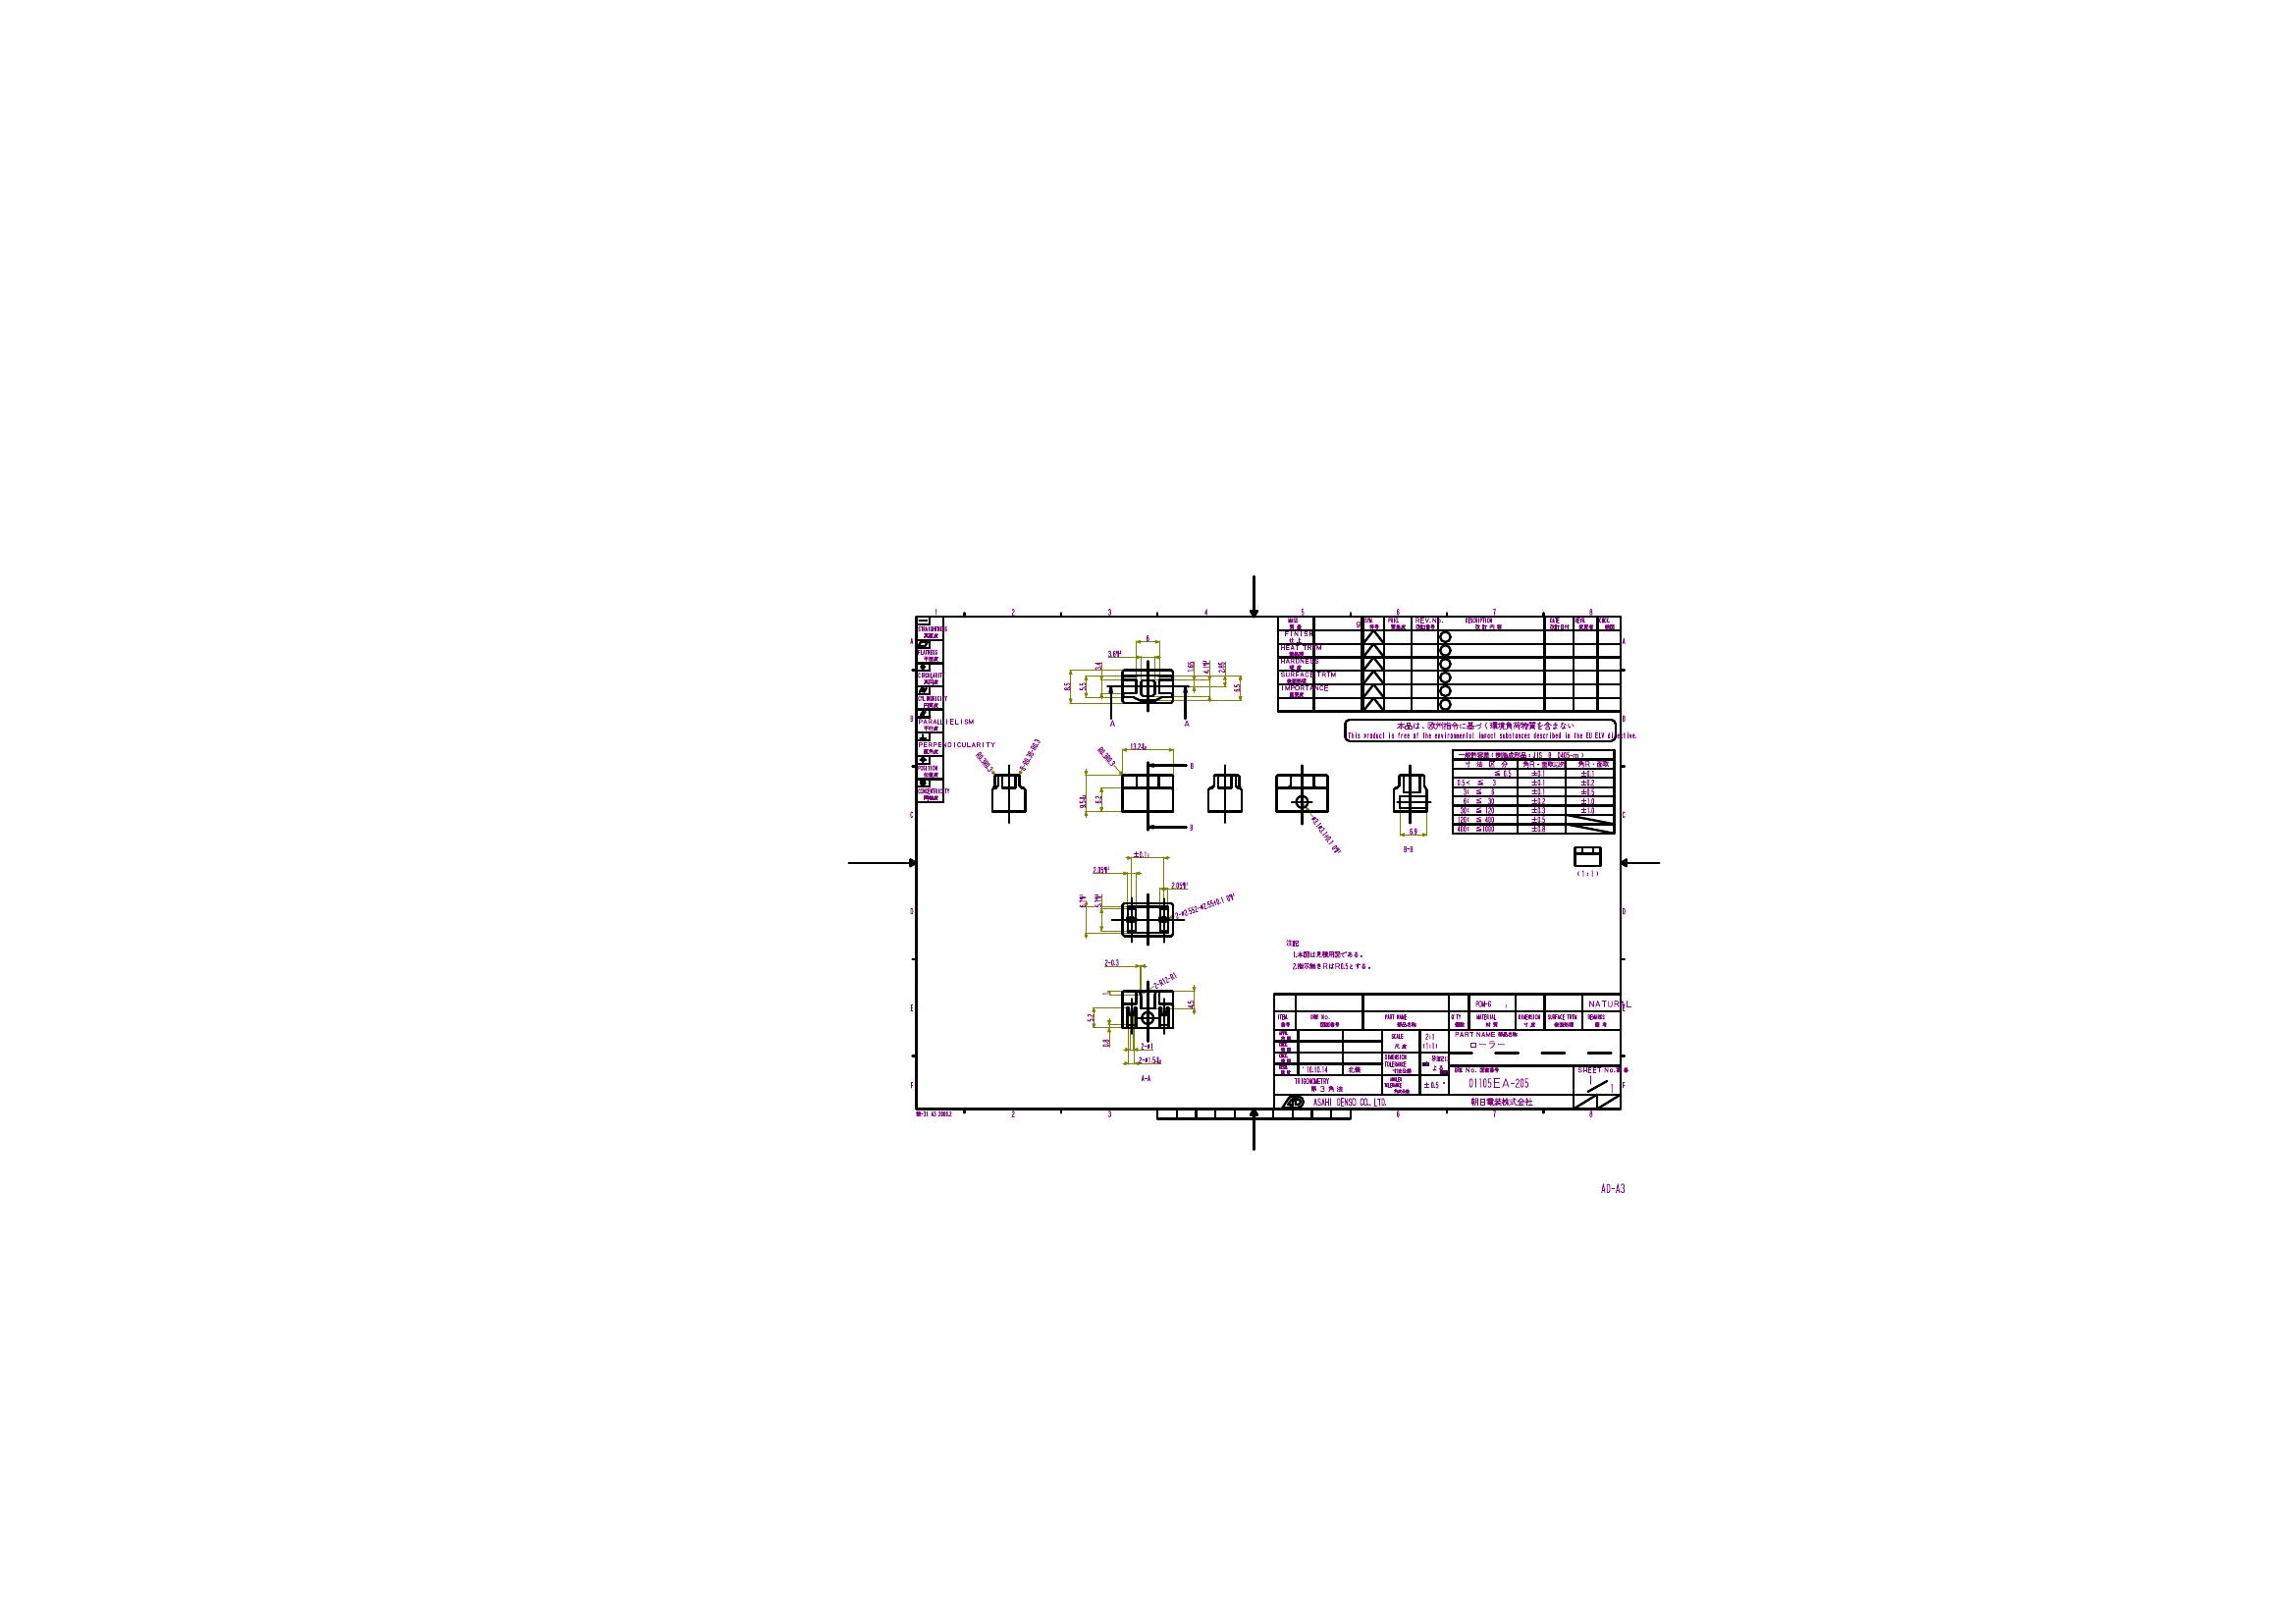anntotation_text: (1342, 717, 1616, 742), (1284, 935, 1372, 972), (1574, 866, 1600, 881), (913, 1109, 954, 1118), (1599, 1183, 1625, 1193), (1138, 1072, 1154, 1083), (1400, 844, 1416, 851), (1182, 719, 1191, 729), (1107, 719, 1116, 728), (1189, 823, 1195, 831), (1189, 761, 1193, 768)
dimension_text: (1173, 902, 1237, 909), (1321, 814, 1330, 858), (1026, 738, 1033, 772), (1151, 977, 1180, 984), (1170, 879, 1189, 889), (1130, 740, 1147, 750), (1133, 849, 1154, 858), (1091, 865, 1112, 874), (1137, 1055, 1163, 1062), (980, 749, 987, 773), (1107, 649, 1123, 657), (1093, 891, 1101, 907), (1138, 1040, 1154, 1049), (1103, 743, 1108, 768), (1200, 659, 1209, 673), (1103, 958, 1121, 965), (1093, 659, 1101, 671), (1216, 661, 1224, 673), (1077, 794, 1084, 808), (1407, 826, 1418, 835), (1186, 659, 1193, 671), (1094, 793, 1101, 805), (1079, 891, 1084, 907), (1231, 684, 1240, 692), (1186, 998, 1195, 1007), (1063, 680, 1070, 691), (1079, 680, 1086, 691), (1087, 1012, 1093, 1023), (1103, 1037, 1108, 1048), (1145, 634, 1151, 642)
object: (1274, 773, 1328, 812), (1121, 773, 1173, 812), (1121, 990, 1173, 1028), (1121, 668, 1173, 705), (1121, 900, 1173, 937), (991, 772, 1026, 812), (1207, 773, 1242, 812), (1393, 773, 1428, 812), (1572, 845, 1600, 866)
title_block: (1274, 993, 1620, 1111), (1279, 615, 1621, 710), (1451, 749, 1614, 833), (913, 615, 945, 801)
